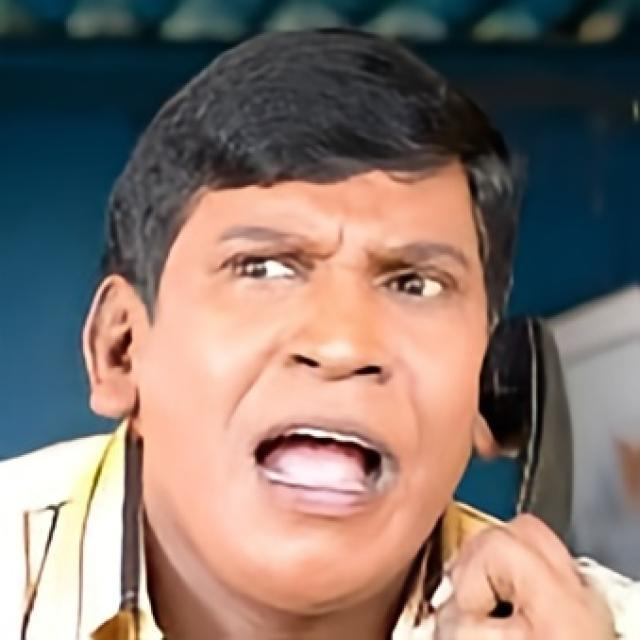anger: (145, 143, 489, 604)
